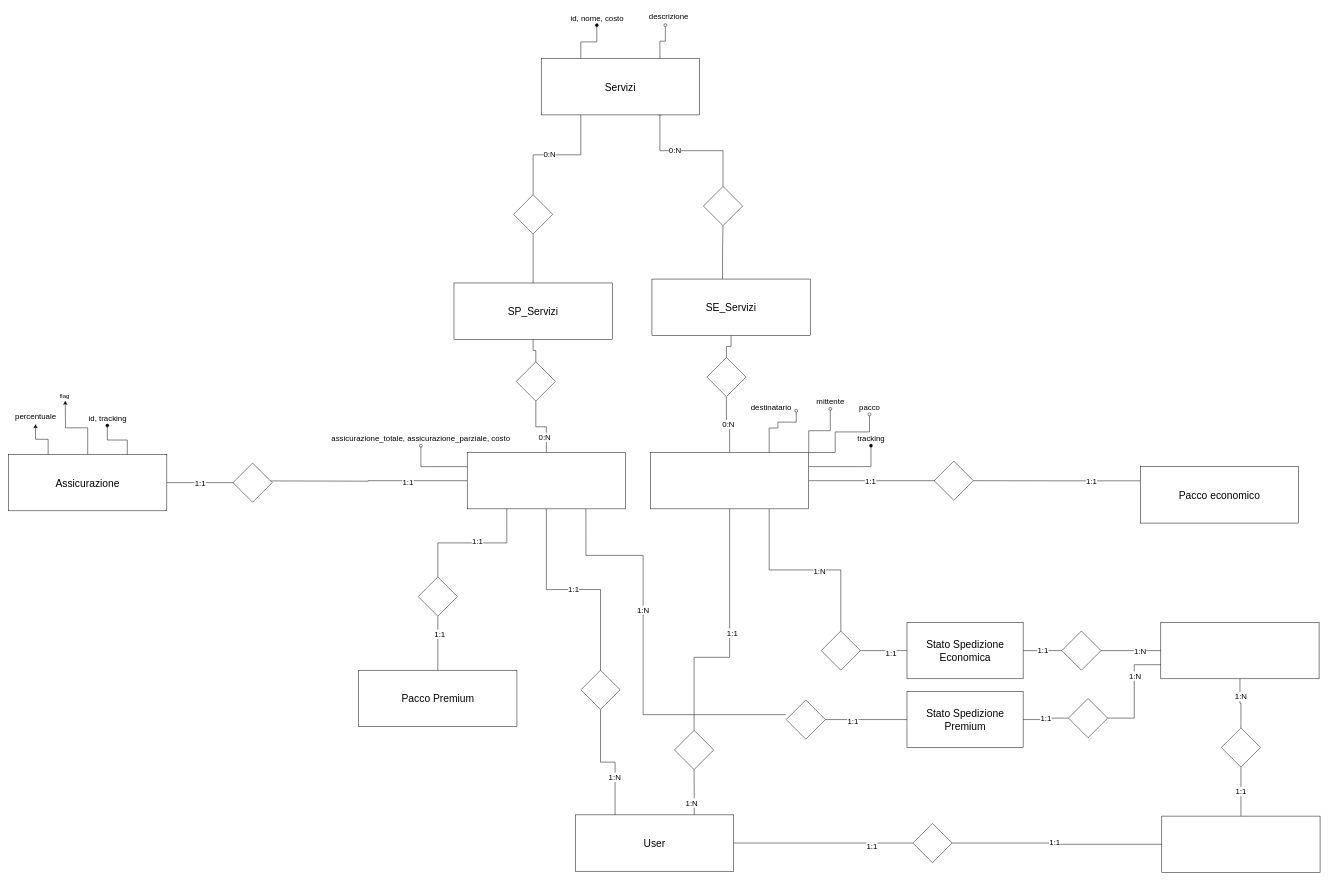
Some shapes in this 1329 by 881 pixel diagram are drawn without their labels. Here are the shapes that lost their labels. From the top down, the box of each, then its label:
(233, 463, 272, 502): avere
(467, 452, 625, 509): spedizioni premium
(650, 452, 809, 509): spedizioni economica
(1160, 622, 1319, 679): Filiale
(1161, 816, 1320, 872): Indirizzo
